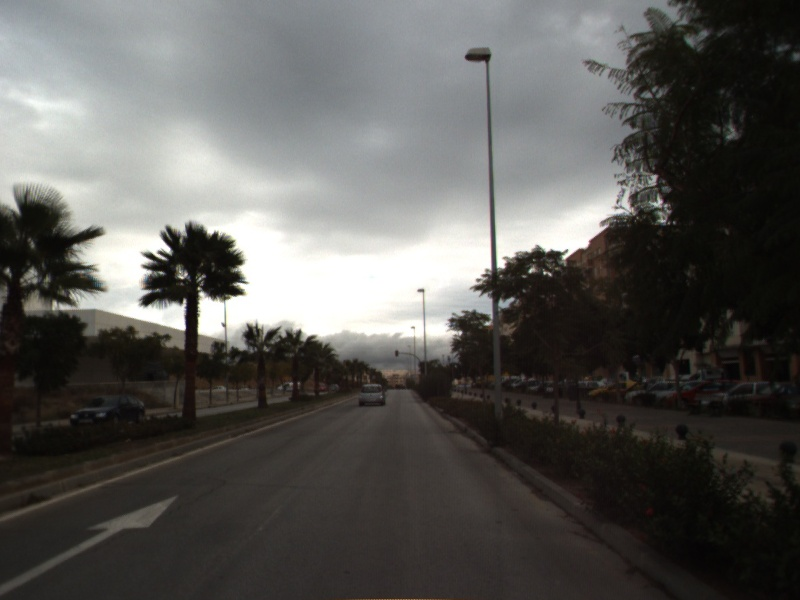STRAIGHT: (1, 493, 180, 598)
